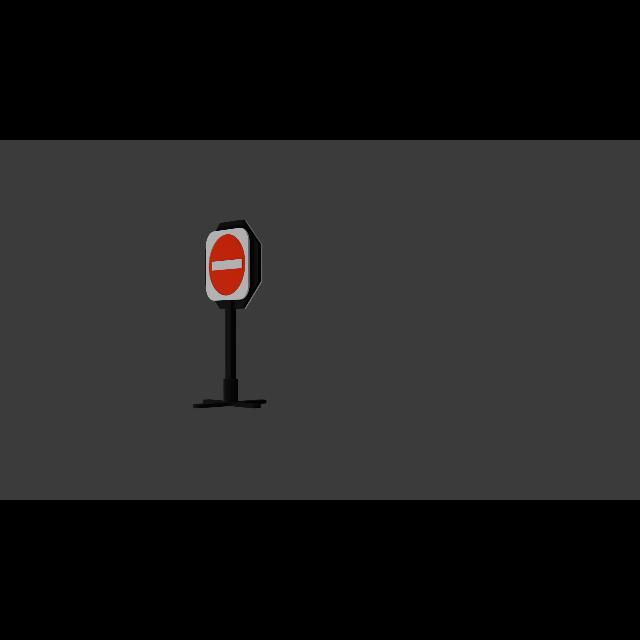sign_noentry: (209, 233, 248, 298)
